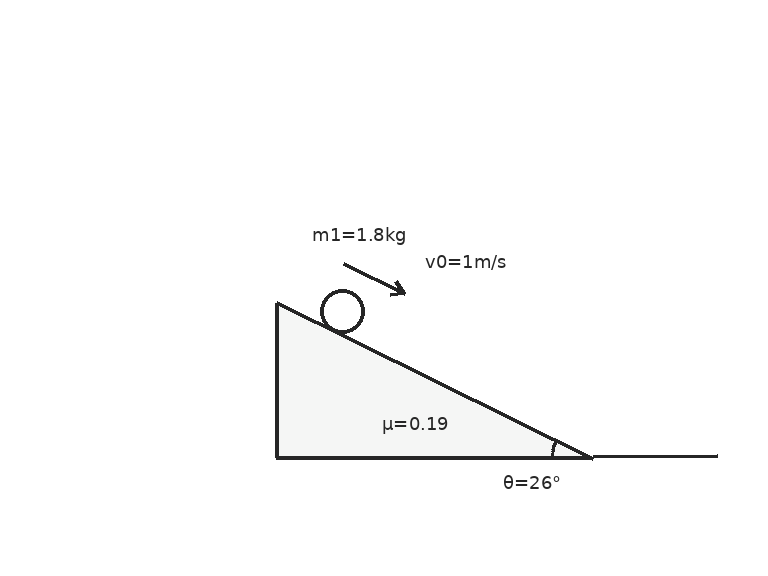ball: (318, 287, 366, 335)
ramp: (274, 301, 594, 459)
